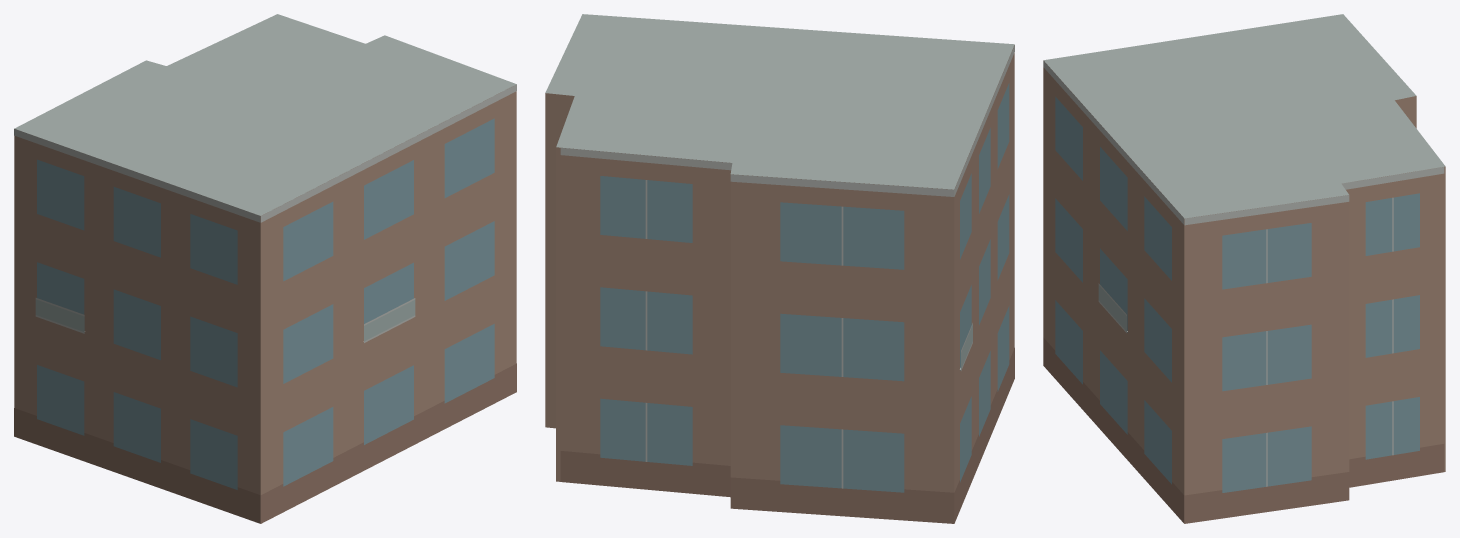
The model's file is survey-upis-33033797.glb.
3 views of the same model, side by side, from view 1: azimuth 30°, elevation 25°; view 2: azimuth 150°, elevation 25°; view 3: azimuth 270°, elevation 25° (orthographic). The views are drawn at different scales.
Visible parts, largest first — view 1: survey-upis-33033797.tmp; view 2: survey-upis-33033797.tmp; view 3: survey-upis-33033797.tmp.
Boxes of the visible parts, left/top/right/bottom form: survey-upis-33033797.tmp: left=14, top=14, right=516, bottom=523; survey-upis-33033797.tmp: left=545, top=14, right=1014, bottom=523; survey-upis-33033797.tmp: left=1043, top=14, right=1445, bottom=523.
Bounding box in the file's own units: 15.66 × 10.9 × 13.02.
